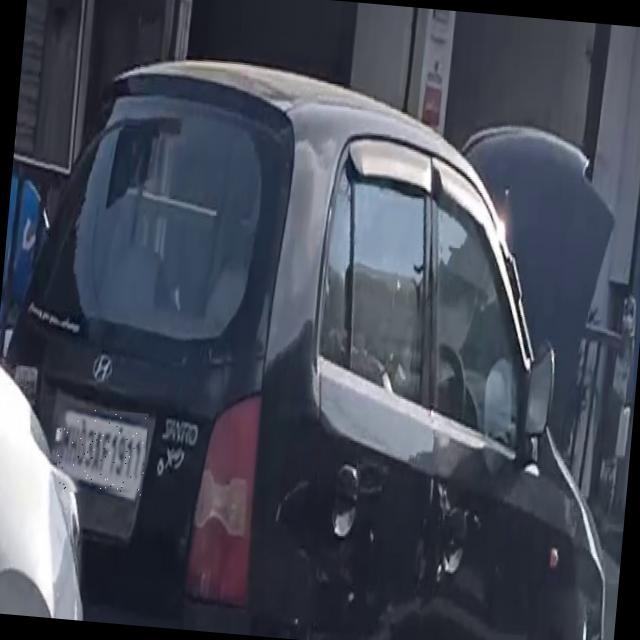Plate: (55, 407, 149, 499)
